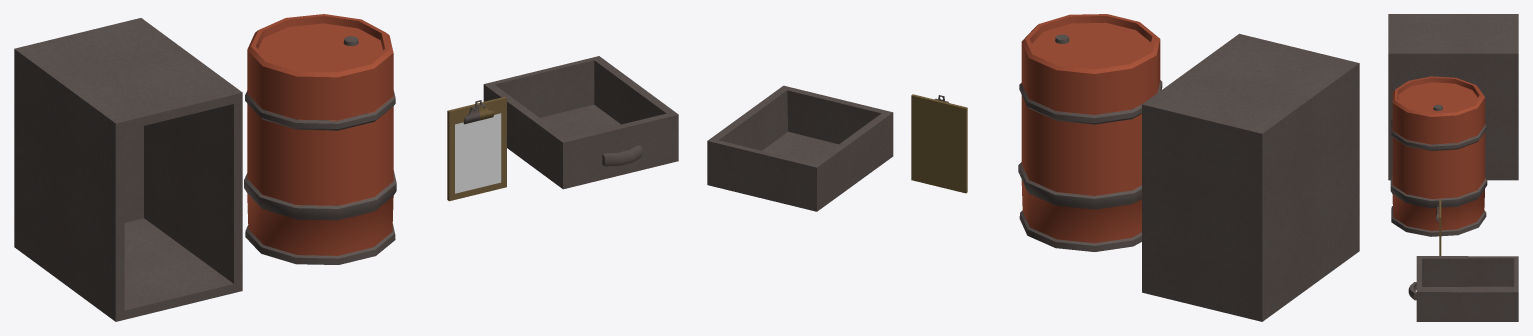
File: AssetsJam2.fbx
3 views of the same model, side by side, from view 1: azimuth 30°, elevation 25°; view 2: azimuth 150°, elevation 25°; view 3: azimuth 270°, elevation 25° (orthographic). The views are drawn at different scales.
Visible parts, largest first — view 1: Armario, Barril, Gaveta, Prancheta; view 2: Armario, Barril, Gaveta, Prancheta; view 3: Barril, Armario, Gaveta, Prancheta.
Part boxes in pixels (x1=…): Armario: x1=14, y1=18, x2=242, y2=321; Barril: x1=244, y1=14, x2=396, y2=264; Gaveta: x1=483, y1=56, x2=678, y2=189; Prancheta: x1=447, y1=96, x2=506, y2=201; Armario: x1=1142, y1=33, x2=1359, y2=321; Barril: x1=1018, y1=14, x2=1162, y2=251; Gaveta: x1=707, y1=85, x2=893, y2=211; Prancheta: x1=911, y1=94, x2=967, y2=193; Barril: x1=1390, y1=76, x2=1487, y2=236; Armario: x1=1388, y1=14, x2=1518, y2=180; Gaveta: x1=1408, y1=256, x2=1518, y2=321; Prancheta: x1=1436, y1=199, x2=1441, y2=255.
Size of the model in its own units: 3.54 by 1.07 by 1.15.
Materials: 1 (1 with a texture image).
